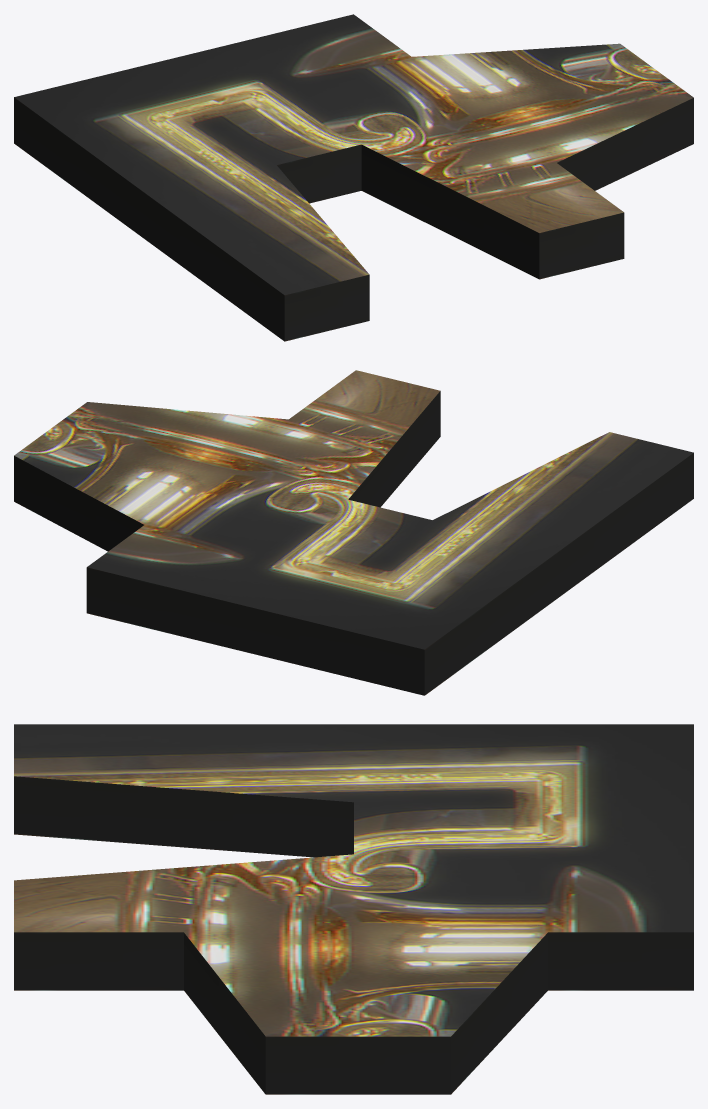
File: puzzle-piece-TL.glb
3 renders of one model, top to bottom at view 1: azimuth 30°, elevation 25°; view 2: azimuth 150°, elevation 25°; view 3: azimuth 270°, elevation 25°, orthographic. The views are drawn at different scales.
Parts seen in each view (by area): view 1: PuzzlePiece2; view 2: PuzzlePiece2; view 3: PuzzlePiece2.
Boxes of the visible parts, x1,y1,x2,y2 form: PuzzlePiece2: (14, 14, 693, 341); PuzzlePiece2: (14, 370, 693, 695); PuzzlePiece2: (14, 724, 693, 1094).
Bounding box in the file's own units: 1.47 × 0.1279 × 1.35.
Materials: 1 (1 with a texture image).
